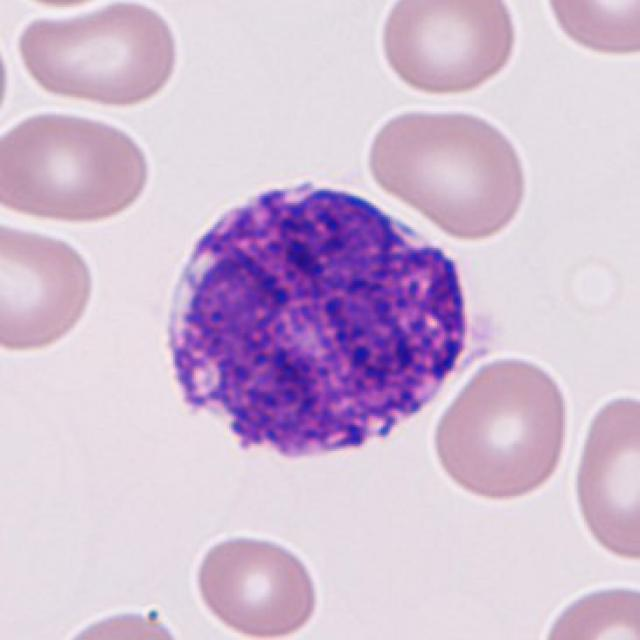Basophil: (149, 160, 507, 478)
RBC: (362, 101, 532, 241), (428, 350, 576, 503), (8, 0, 185, 109), (0, 104, 156, 227), (190, 527, 324, 640), (374, 0, 523, 99), (0, 215, 100, 357), (568, 385, 638, 565), (533, 577, 639, 640), (537, 0, 638, 61), (47, 603, 190, 640), (0, 22, 14, 140)
